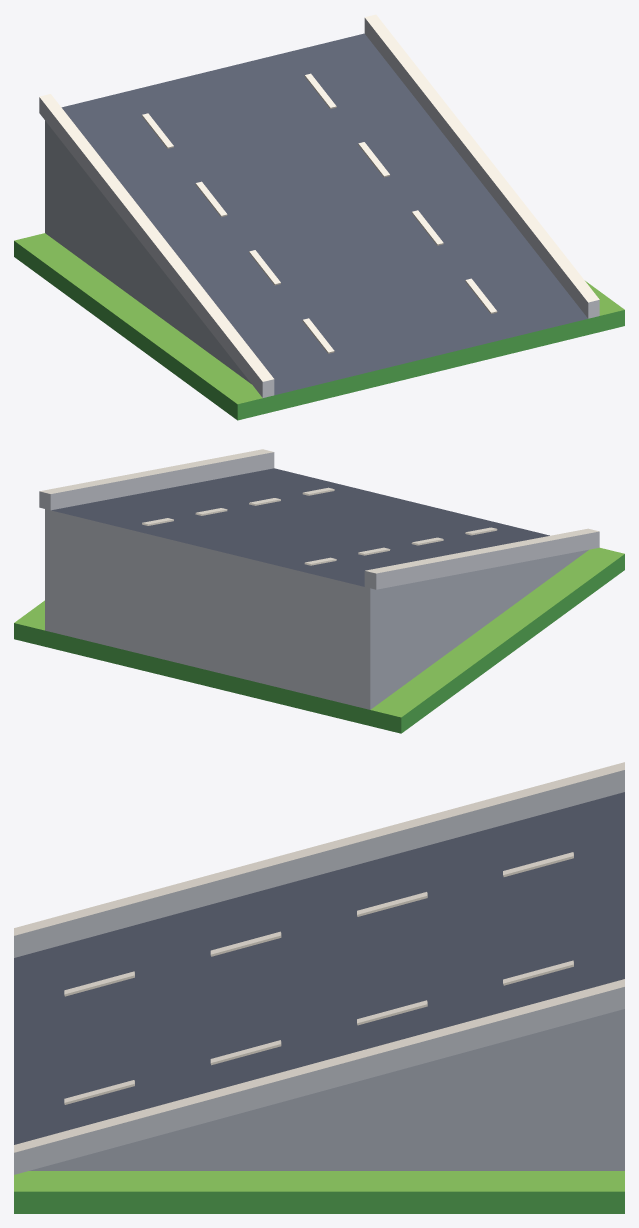
File: highway_ramp.glb
3 views of the same model, one above another, from view 1: azimuth 30°, elevation 25°; view 2: azimuth 150°, elevation 25°; view 3: azimuth 270°, elevation 25° (orthographic). The views are drawn at different scales.
Parts seen in each view (by area): view 1: highway_ramp; view 2: highway_ramp; view 3: highway_ramp.
Boxes of the visible parts, box(x1,y1,x2,y2) form: highway_ramp: box(14, 14, 624, 420); highway_ramp: box(14, 449, 624, 733); highway_ramp: box(14, 762, 624, 1213).
Bounding box in the file's own units: 1 × 0.38 × 1.
